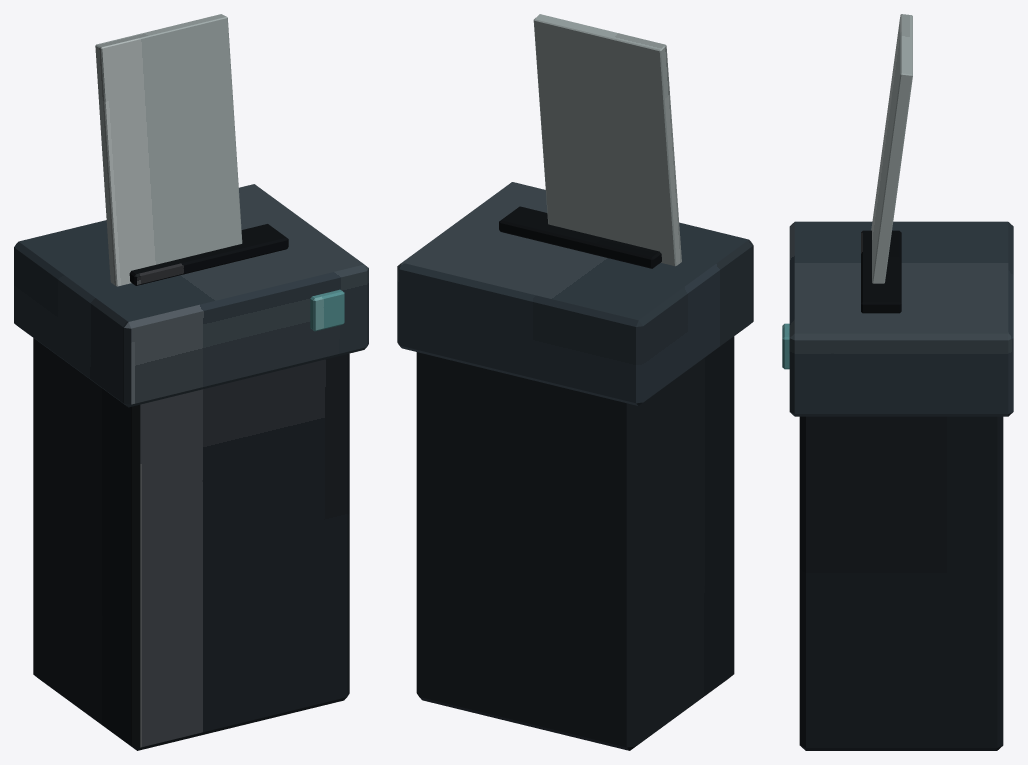
Rendered from office_shredder_charcoal.glb.
3 renders of one model, left to right at view 1: azimuth 30°, elevation 25°; view 2: azimuth 150°, elevation 25°; view 3: azimuth 270°, elevation 25°, orthographic. The views are drawn at different scales.
Visible parts, largest first — view 1: ShredderBin, ShredderHead, PaperStrip, PaperSlot, PowerButton; view 2: ShredderBin, ShredderHead, PaperStrip, PaperSlot; view 3: ShredderBin, ShredderHead, PaperStrip, PaperSlot.
Boxes of the visible parts, x1,y1,x2,y2 form: ShredderBin: (33, 338, 349, 750); ShredderHead: (14, 184, 368, 407); PaperStrip: (95, 14, 242, 286); PaperSlot: (129, 224, 288, 285); PowerButton: (310, 289, 344, 331); ShredderBin: (416, 336, 734, 750); ShredderHead: (397, 182, 753, 405); PaperStrip: (533, 14, 681, 266); PaperSlot: (499, 206, 661, 268); ShredderBin: (799, 416, 1003, 750); ShredderHead: (789, 221, 1013, 416); PaperStrip: (871, 14, 912, 283); PaperSlot: (861, 230, 901, 313).
Bounding box in the file's own units: 0.54 × 1.4 × 0.454.
Materials: 1 (1 with a texture image).
